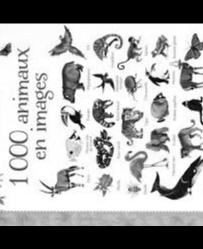Non_Gorille: (41, 29, 203, 198)
